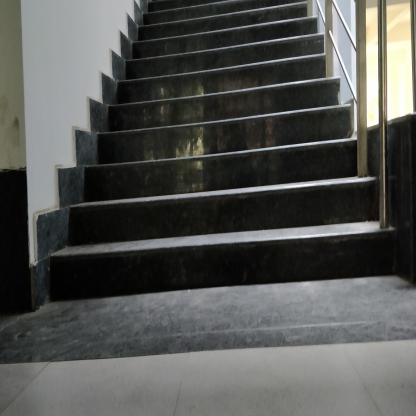stairs: (133, 53, 320, 306)
